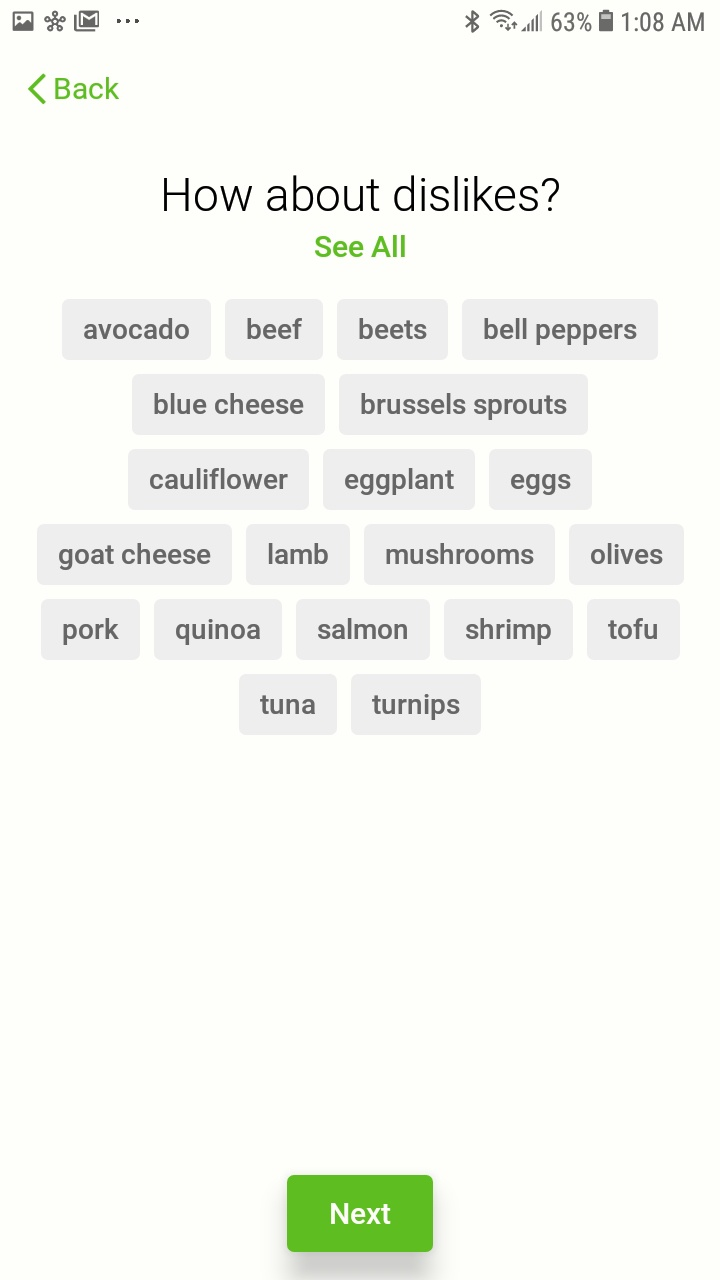Icon: (29, 74, 48, 106)
Text: (164, 175, 560, 213), (315, 235, 406, 259), (55, 77, 120, 101)
TextButton: (339, 374, 589, 436), (462, 299, 659, 361), (37, 524, 233, 586), (132, 374, 326, 436), (364, 524, 556, 586), (128, 449, 310, 512), (287, 1175, 434, 1253), (322, 449, 476, 511), (62, 299, 213, 361), (296, 599, 431, 661), (351, 673, 482, 735), (444, 599, 574, 661), (154, 599, 283, 661), (568, 524, 684, 586), (337, 299, 449, 361), (489, 448, 593, 511), (246, 524, 351, 586), (41, 599, 141, 661), (225, 299, 324, 361), (239, 674, 338, 736), (587, 599, 681, 661)
UpperTaskBar: (1, 1, 720, 36)
